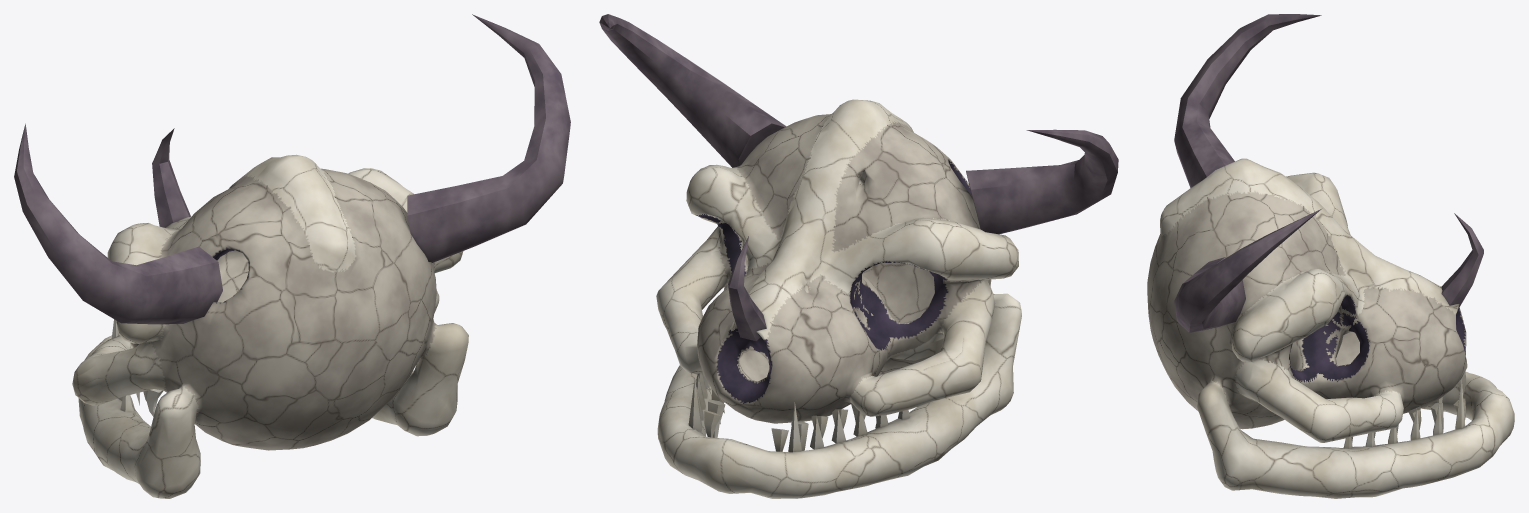
File: craneo_gigante.fbx
3 views of the same model, side by side, from view 1: azimuth 30°, elevation 25°; view 2: azimuth 150°, elevation 25°; view 3: azimuth 270°, elevation 25° (orthographic). The views are drawn at different scales.
Visible parts, largest first — view 1: craneo; view 2: craneo; view 3: craneo.
Boxes of the visible parts, x1,y1,x2,y2 form: craneo: [14, 14, 570, 498]; craneo: [599, 14, 1118, 498]; craneo: [1147, 14, 1514, 498].
Bounding box in the file's own units: 6 × 4 × 4.
1 material, 1 textured.
